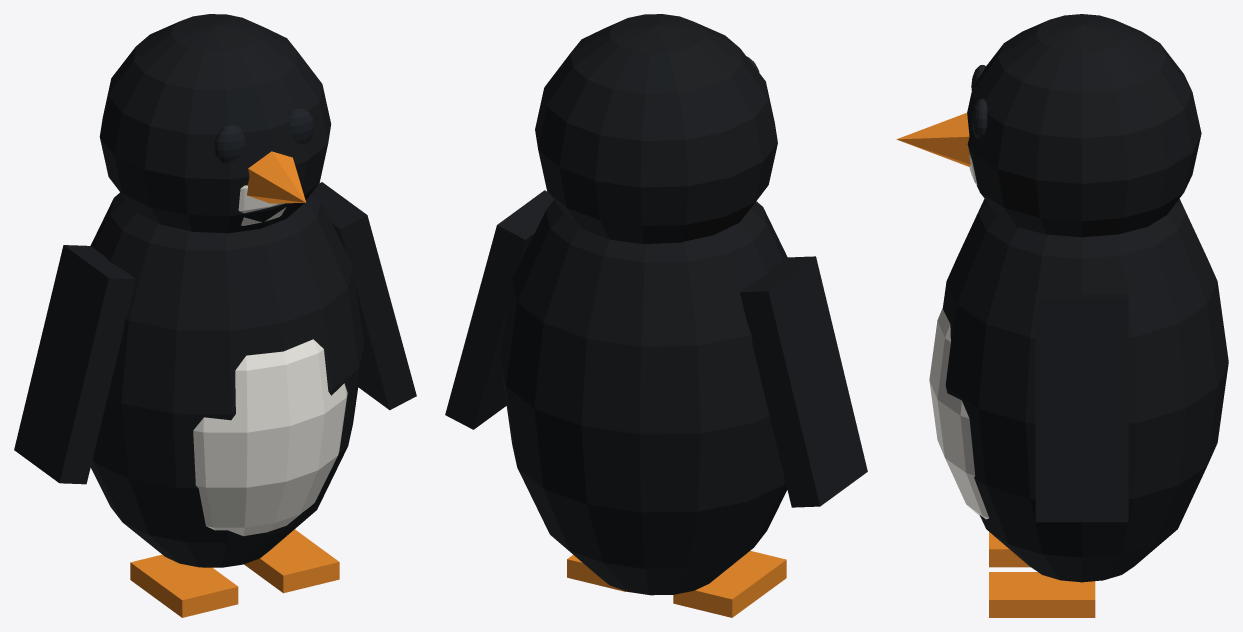
The model's file is penguin-lod0.glb.
3 views of the same model, side by side, from view 1: azimuth 30°, elevation 25°; view 2: azimuth 150°, elevation 25°; view 3: azimuth 270°, elevation 25° (orthographic). The views are drawn at different scales.
Visible parts, largest first — view 1: penguin; view 2: penguin; view 3: penguin.
Part boxes in pixels (x1,y1,x2,y2): penguin: [14, 14, 416, 617]; penguin: [445, 14, 867, 617]; penguin: [896, 14, 1228, 617].
Bounding box in the file's own units: 0.6363 × 0.92 × 0.501.
